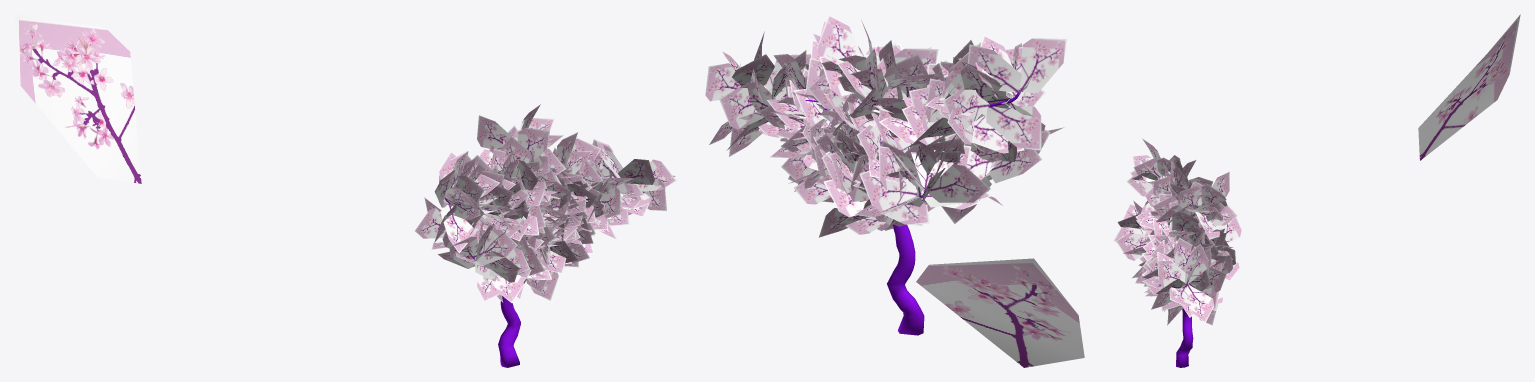
File: STROM_6.glb
3 views of the same model, side by side, from view 1: azimuth 30°, elevation 25°; view 2: azimuth 150°, elevation 25°; view 3: azimuth 270°, elevation 25° (orthographic). The views are drawn at different scales.
Parts seen in each view (by area): view 1: LEAF, TREE, LEAF.115, LEAF.124, LEAF.515, LEAF.411, LEAF.510, LEAF.419, LEAF.414, LEAF.134; view 2: LEAF, TREE, LEAF.121, LEAF.107, LEAF.419, LEAF.517, LEAF.123, LEAF.426, LEAF.108, LEAF.405, LEAF.412, LEAF.136 (+53 smaller); view 3: LEAF, TREE, LEAF.408, LEAF.411, LEAF.413, LEAF.135, LEAF.404, LEAF.405, LEAF.346, LEAF.510, LEAF.422, LEAF.517.
Part boxes in pixels (bbox=[...]): LEAF: bbox=[14, 14, 141, 183]; TREE: bbox=[445, 198, 520, 367]; LEAF.115: bbox=[440, 203, 473, 253]; LEAF.124: bbox=[473, 229, 517, 265]; LEAF.515: bbox=[477, 115, 510, 150]; LEAF.411: bbox=[617, 159, 654, 184]; LEAF.510: bbox=[518, 128, 549, 158]; LEAF.419: bbox=[415, 207, 445, 238]; LEAF.414: bbox=[633, 159, 676, 191]; LEAF.134: bbox=[449, 236, 477, 268]; LEAF: bbox=[916, 258, 1084, 367]; TREE: bbox=[741, 86, 1020, 335]; LEAF.121: bbox=[1020, 38, 1066, 93]; LEAF.107: bbox=[986, 105, 1041, 150]; LEAF.419: bbox=[928, 164, 990, 202]; LEAF.517: bbox=[818, 14, 862, 72]; LEAF.123: bbox=[967, 44, 1021, 92]; LEAF.426: bbox=[859, 168, 917, 211]; LEAF.108: bbox=[943, 89, 990, 129]; LEAF.405: bbox=[719, 88, 756, 129]; LEAF.412: bbox=[705, 63, 741, 101]; LEAF.136: bbox=[989, 148, 1041, 183]; LEAF: bbox=[1418, 14, 1520, 160]; TREE: bbox=[1176, 284, 1193, 367]; LEAF.408: bbox=[1187, 284, 1214, 322]; LEAF.411: bbox=[1157, 260, 1185, 287]; LEAF.413: bbox=[1183, 243, 1208, 284]; LEAF.135: bbox=[1116, 233, 1146, 260]; LEAF.404: bbox=[1173, 237, 1196, 270]; LEAF.405: bbox=[1190, 268, 1226, 292]; LEAF.346: bbox=[1172, 210, 1198, 231]; LEAF.510: bbox=[1178, 186, 1199, 209]; LEAF.422: bbox=[1216, 210, 1241, 242]; LEAF.517: bbox=[1201, 184, 1226, 203].
Bounding box in the file's own units: 9.57 × 5.37 × 8.63.
2 materials, 1 textured.
